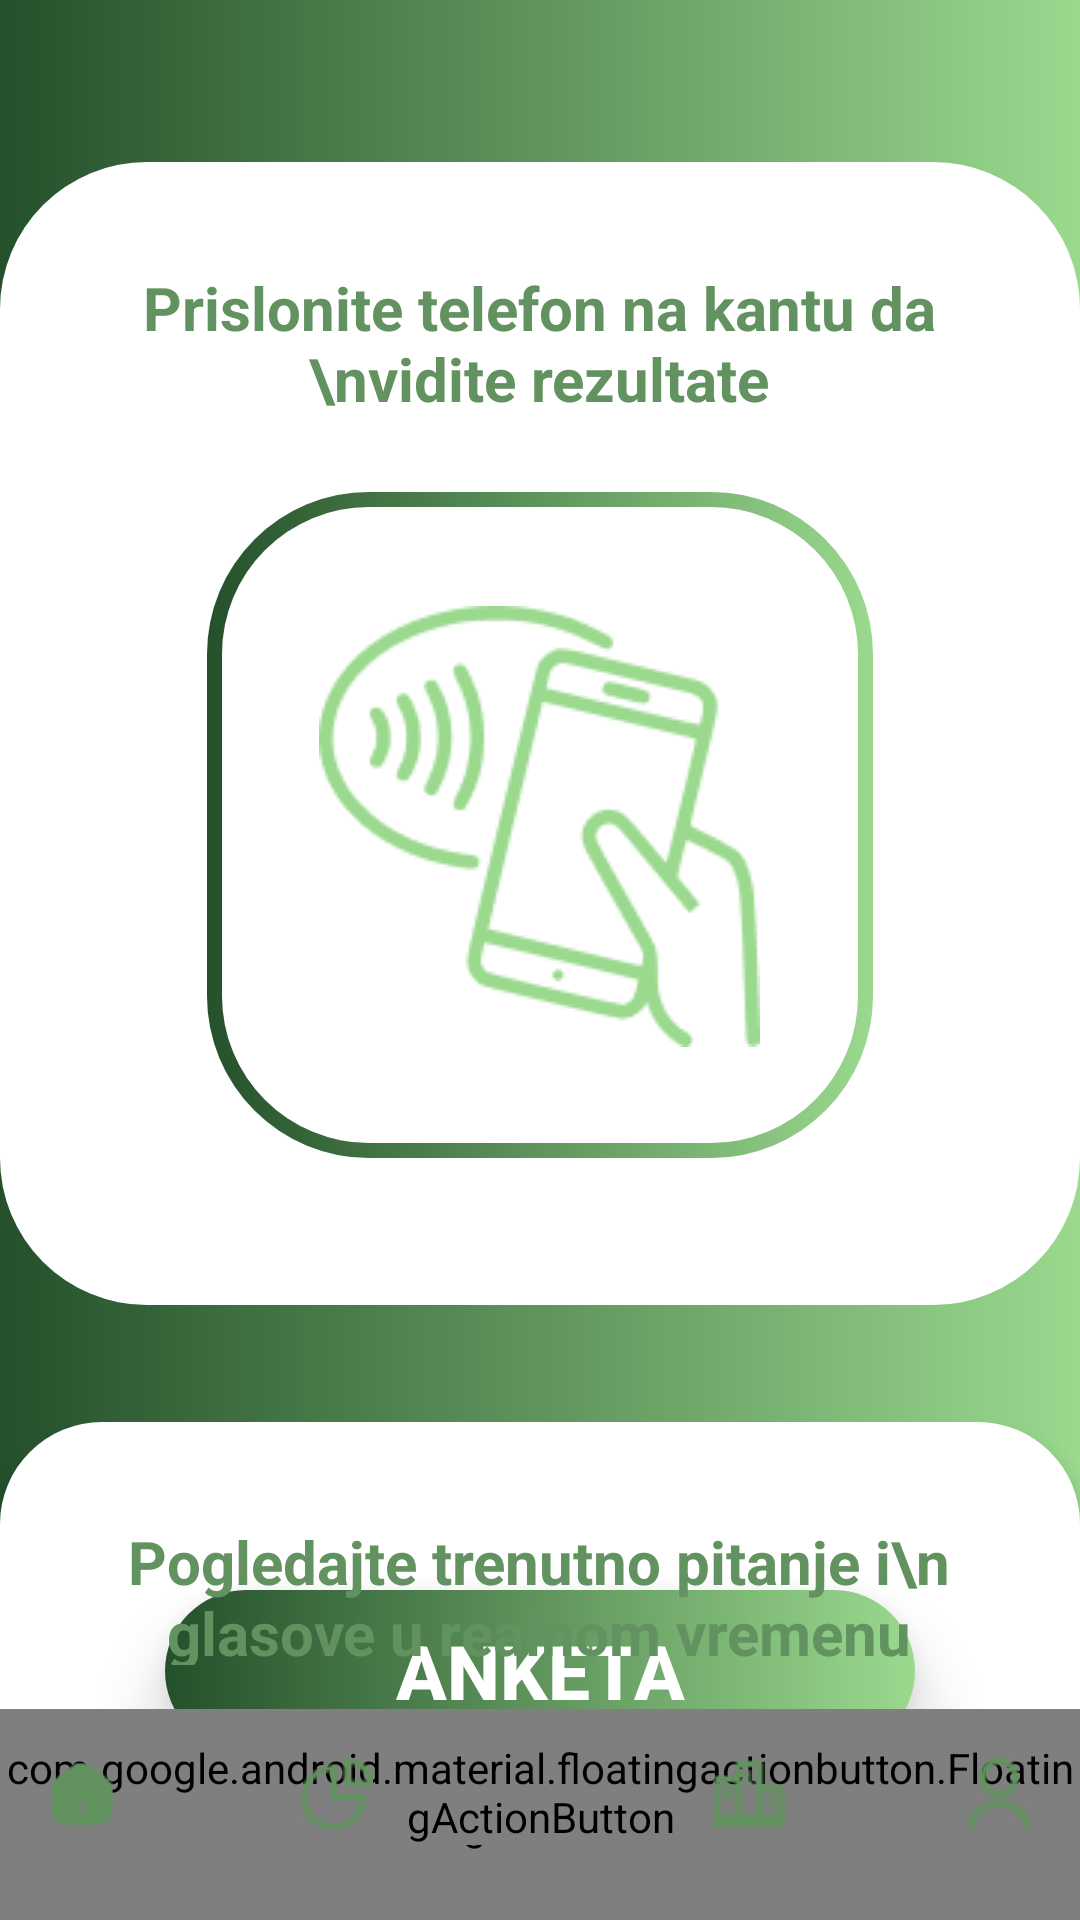

Named icons in this screenshot (1080×1920) and their centers, [x,y]:
user: [1002,1794]
